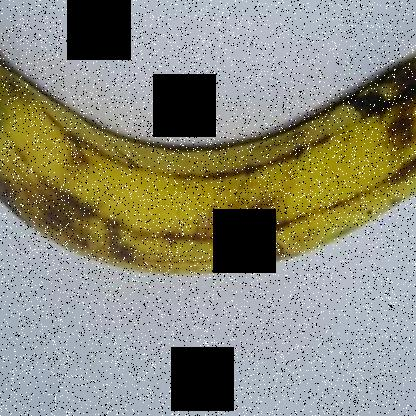overripe: (1, 21, 415, 290)
